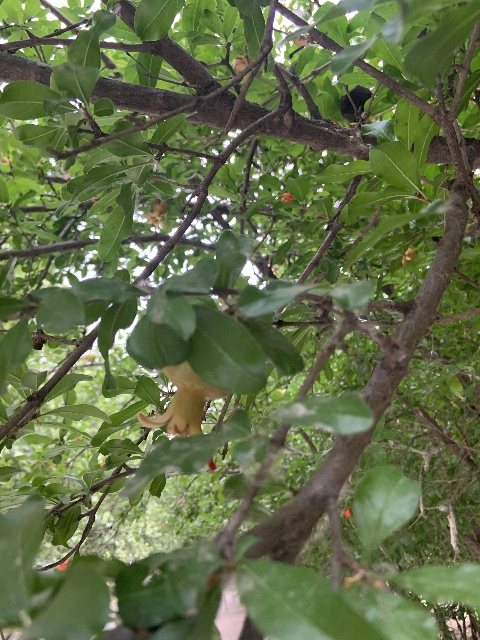early-fruit: (135, 362, 231, 436), (143, 200, 167, 229), (400, 248, 415, 265)
